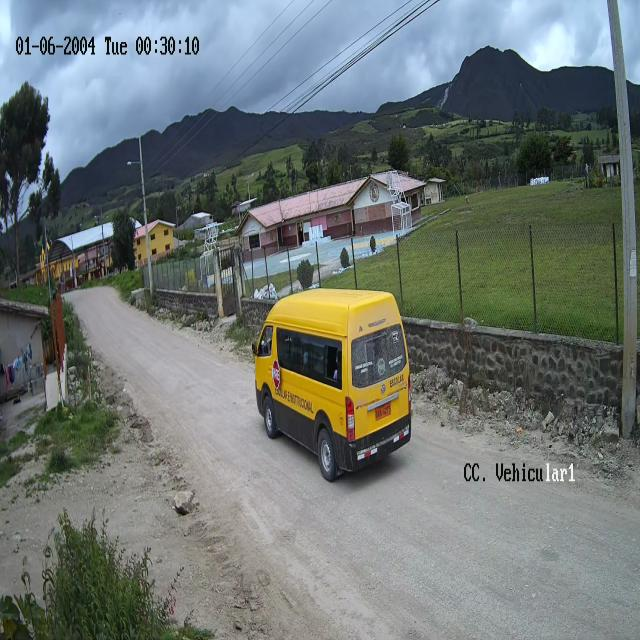BUS: (252, 289, 412, 483)
